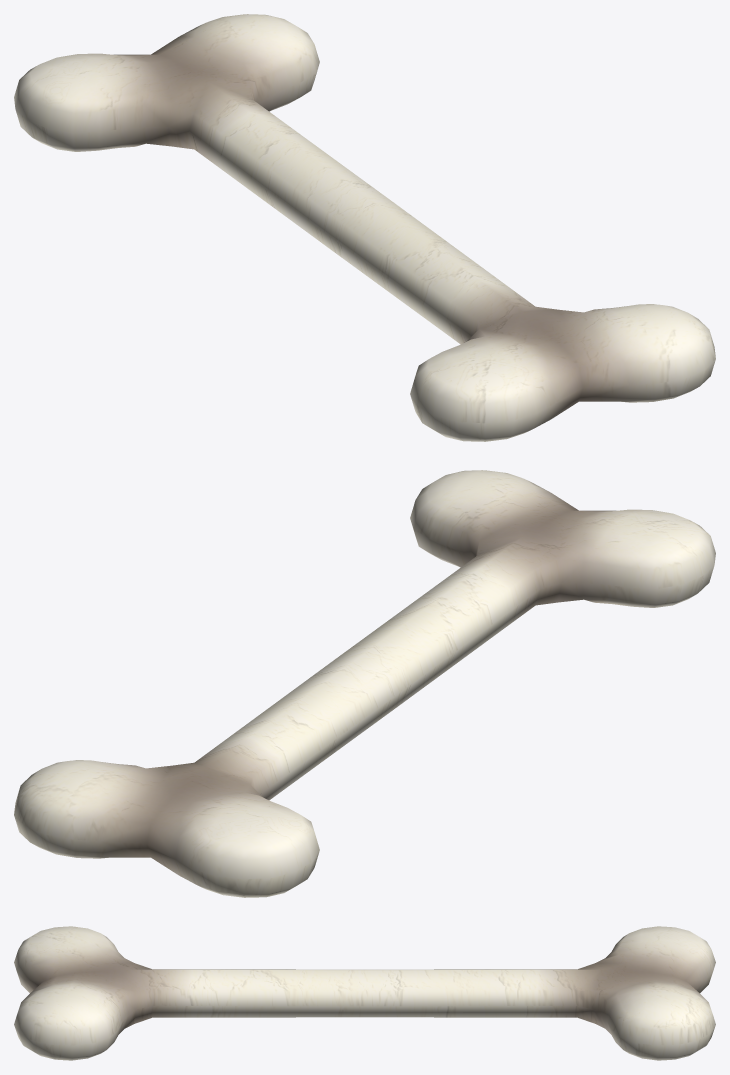
File: SM_Bone.FBX
3 renders of one model, top to bottom at view 1: azimuth 30°, elevation 25°; view 2: azimuth 150°, elevation 25°; view 3: azimuth 270°, elevation 25°, orthographic. The views are drawn at different scales.
Parts seen in each view (by area): view 1: SM_Bone; view 2: SM_Bone; view 3: SM_Bone.
Part boxes in pixels (x1=…): SM_Bone: x1=14, y1=14, x2=715, y2=441; SM_Bone: x1=14, y1=470, x2=715, y2=897; SM_Bone: x1=14, y1=926, x2=715, y2=1060.
Bounding box in the file's own units: 27.91 × 79.38 × 7.05.
